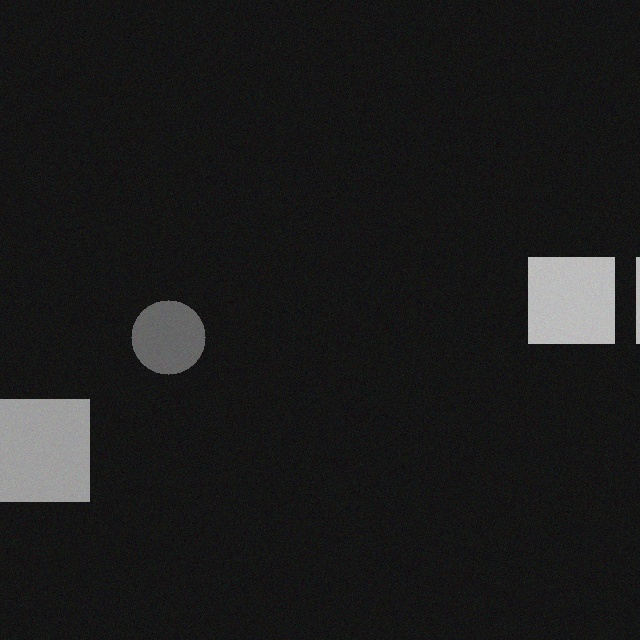circle: (145, 286, 219, 360)
square: (1, 385, 103, 487), (542, 243, 628, 329)
